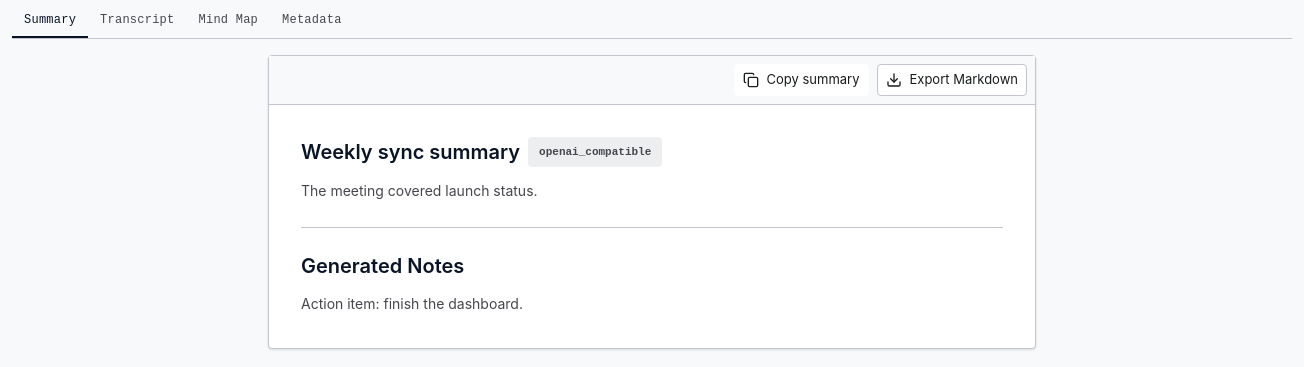
it: RecordingResults › renders summary when present
Expected: the heading "Weekly sync summary" is shown, [301,138,520,166]
Expected: the text "The meeting covered launch status." is shown, [301,182,538,199]
Click the tab "Mind Map" at (228, 25), box [186,12,270,38]
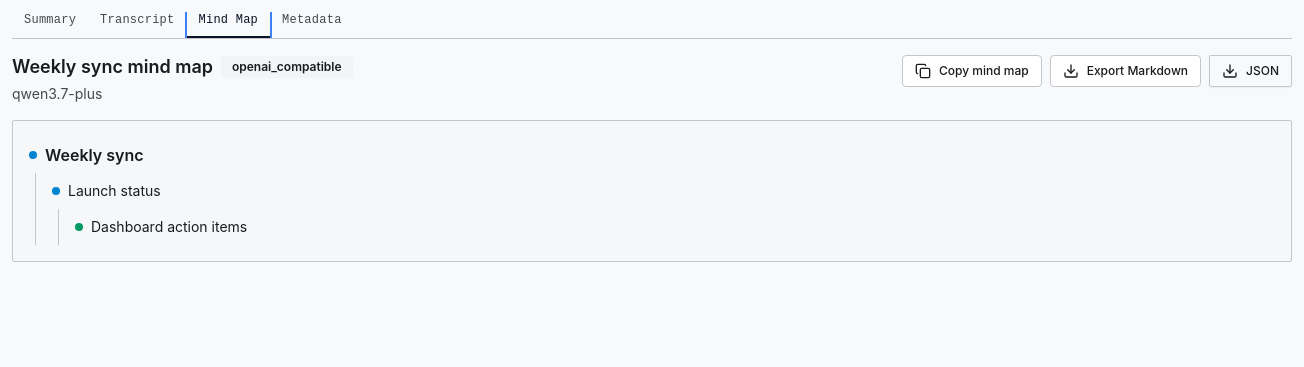
Expected: the text "Launch status" is shown, [68,179,161,203]
Expected: the heading "Weekly sync mind map" is shown, [12,55,213,80]
